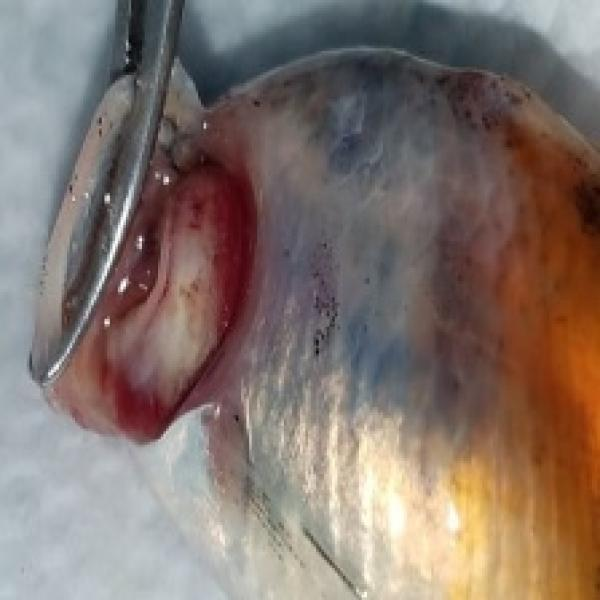bacterial_gill: (103, 174, 242, 412)
